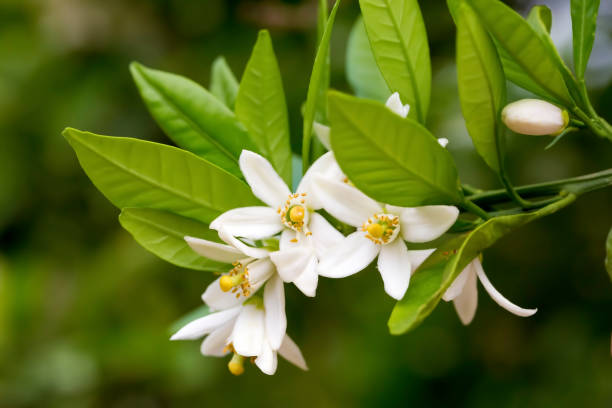flower: (204, 134, 362, 287), (319, 150, 464, 297), (172, 219, 299, 337), (161, 311, 319, 378)
